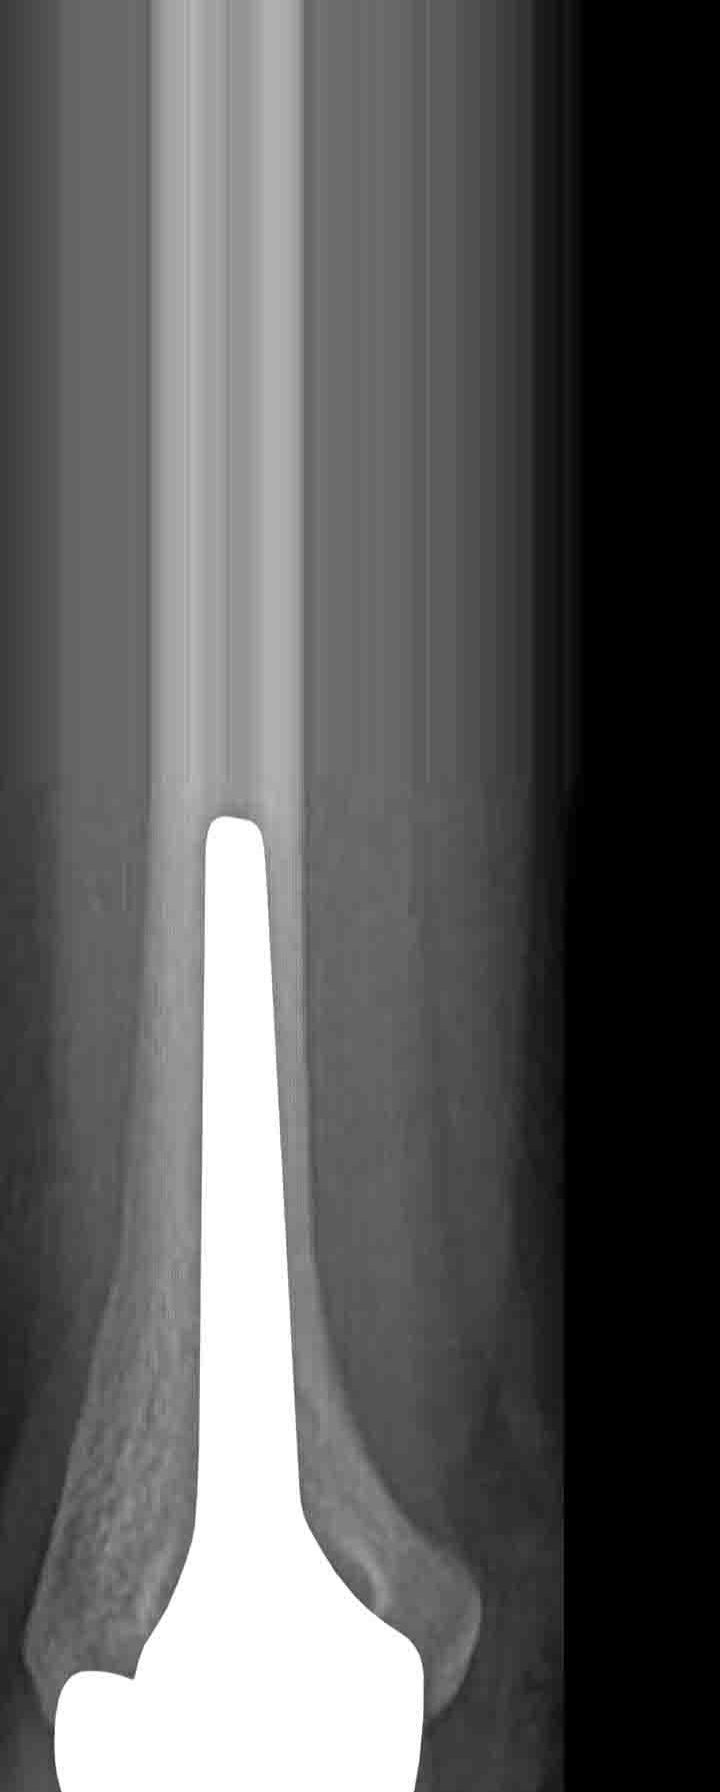Elbow - IBP - Biomet: (22, 800, 478, 1792)
